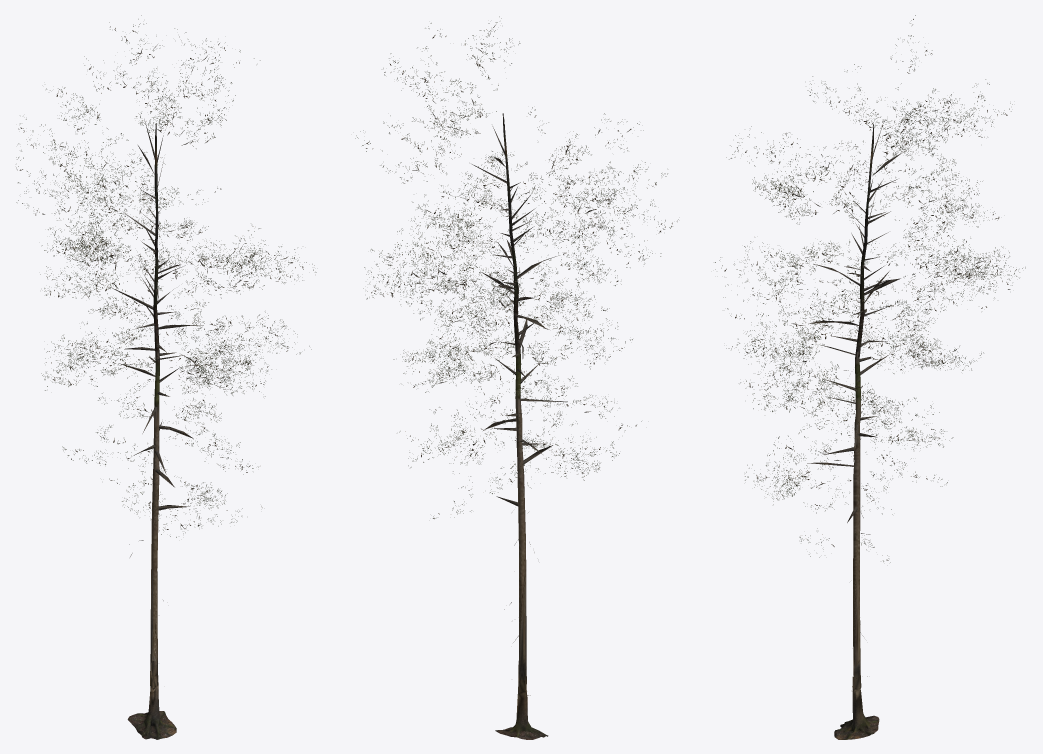
The model's file is pine_tree_01_hi.glb.
3 views of the same model, side by side, from view 1: azimuth 30°, elevation 25°; view 2: azimuth 150°, elevation 25°; view 3: azimuth 270°, elevation 25° (orthographic). The views are drawn at different scales.
Visible parts, largest first — view 1: pine_tree_01_a_LOD0; view 2: pine_tree_01_a_LOD0; view 3: pine_tree_01_a_LOD0.
Boxes of the visible parts, x1,y1,x2,y2 form: pine_tree_01_a_LOD0: (16, 15, 316, 739); pine_tree_01_a_LOD0: (355, 16, 678, 739); pine_tree_01_a_LOD0: (715, 15, 1025, 739).
Size of the model in its own units: 7.49 by 20.31 by 8.23.
4 materials, 4 textured.
